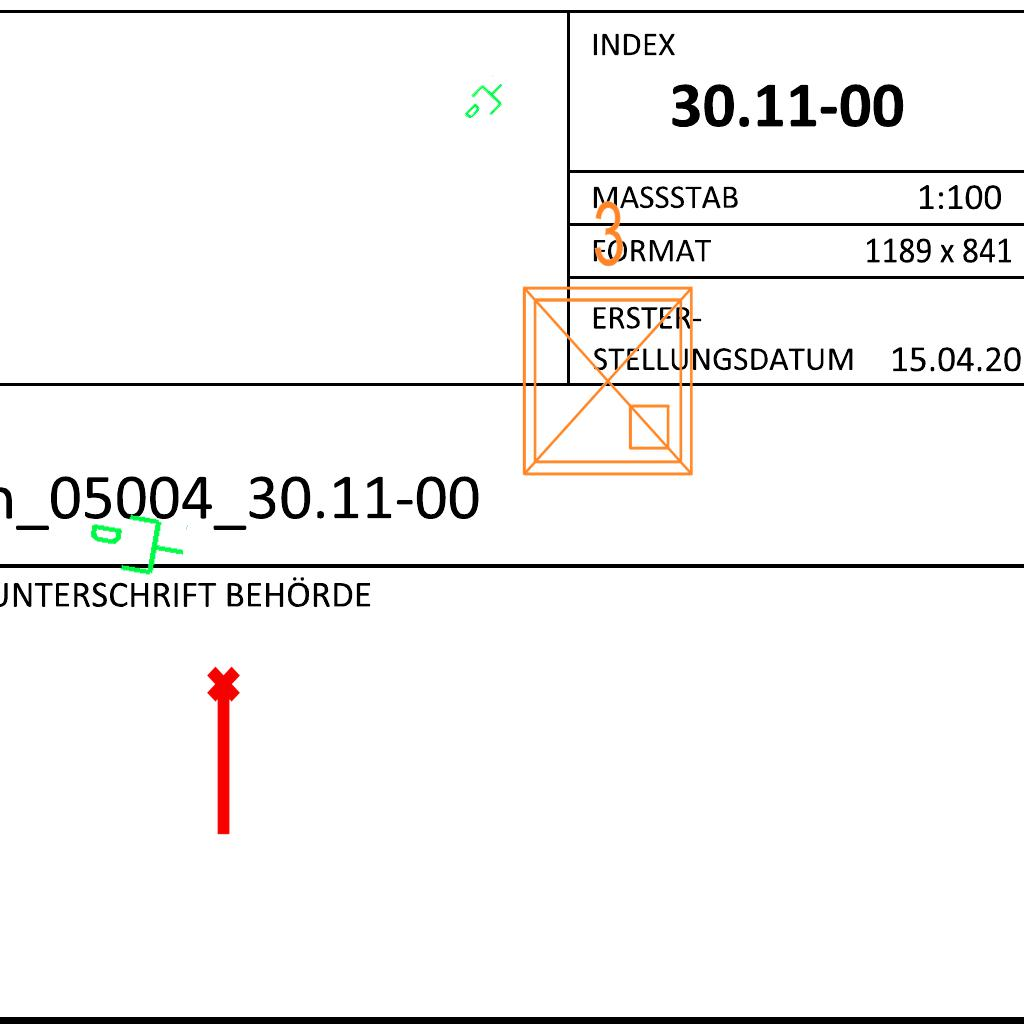ASR_Ansaugoeffnung: (203, 664, 249, 840)
Datenanschluss_einfach: (81, 503, 192, 589), (456, 72, 516, 132)
Einbaudownlights_LED_Konferenzraeume: (500, 190, 708, 490)
